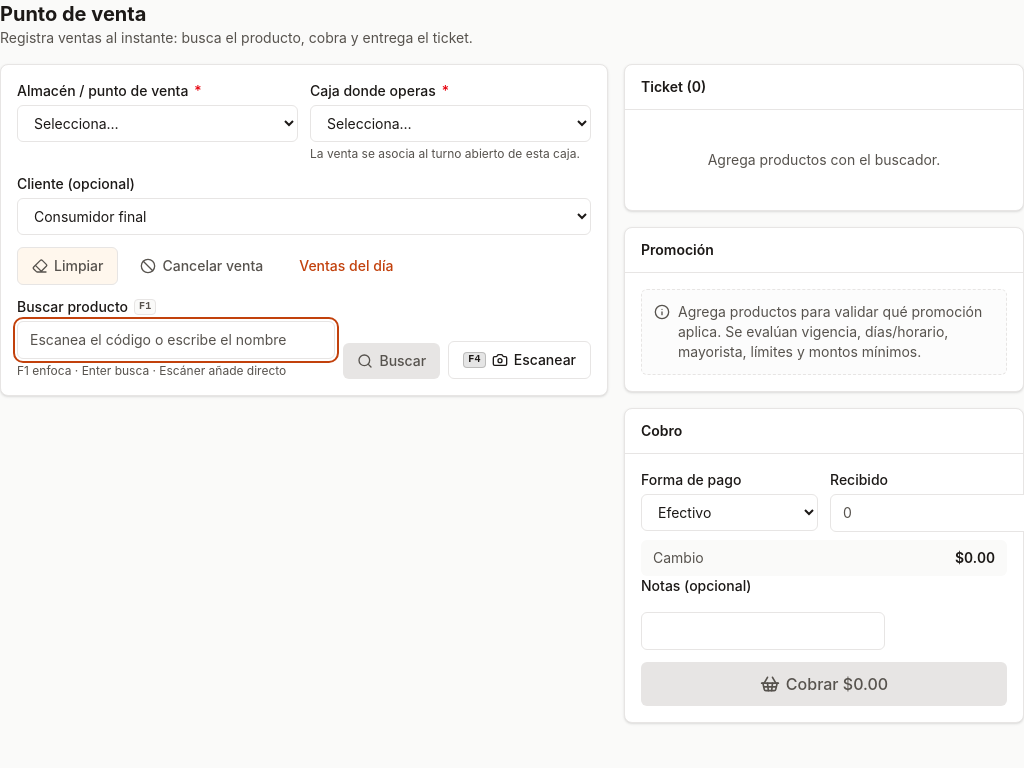
it: PosPage › abre las ventas del día y muestra el resumen vacío
What coordinates should you click on to do the following:
click the button with aria-label "Ver ventas del día"
I would click on:
 (346, 266)
Its box is [285,247,407,285].
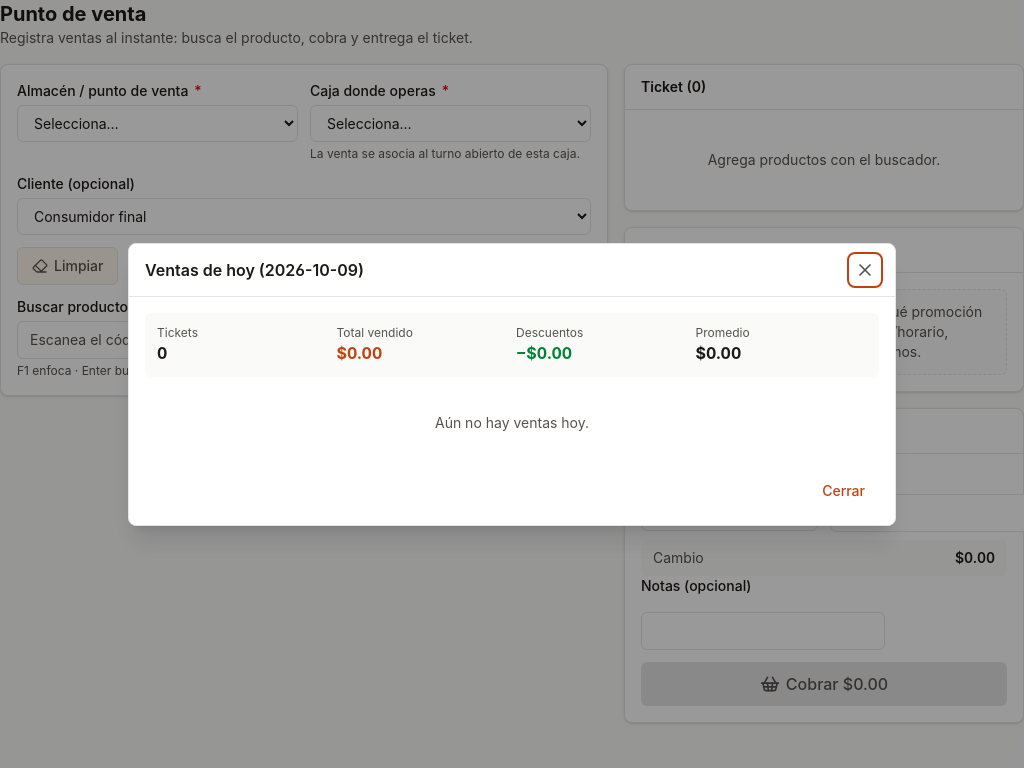
Expected: the heading "Ventas de hoy (2026-10-09)" is shown, [145,258,364,282]
Expected: the text "Aún no hay ventas hoy." is shown, [435,414,589,430]
Expected: the text "Tickets" is shown, [157,324,198,340]
